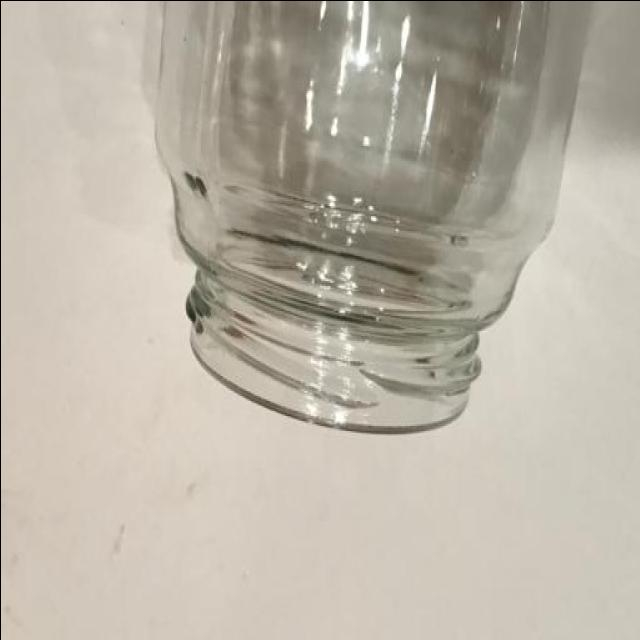glass: (155, 0, 607, 446)
